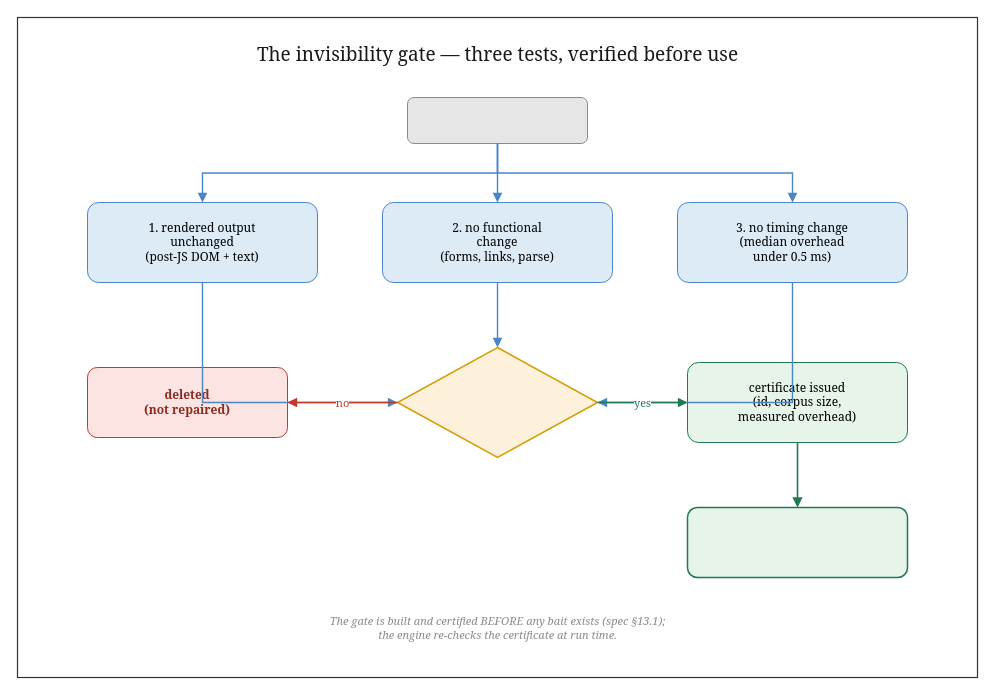
This 996x696 diagram has some shape labels left out. Each missing label, with the centre of its shape:
admitted to the bait library: point 797,542
all three pass?: point 497,402
candidate bait: point 497,120
